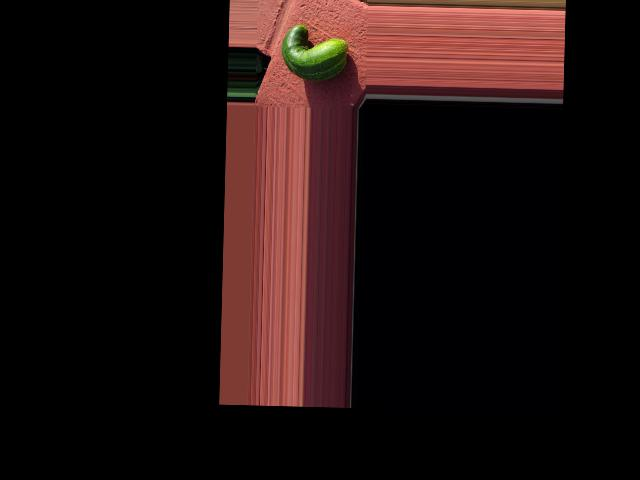cucumber: (281, 23, 348, 81)
